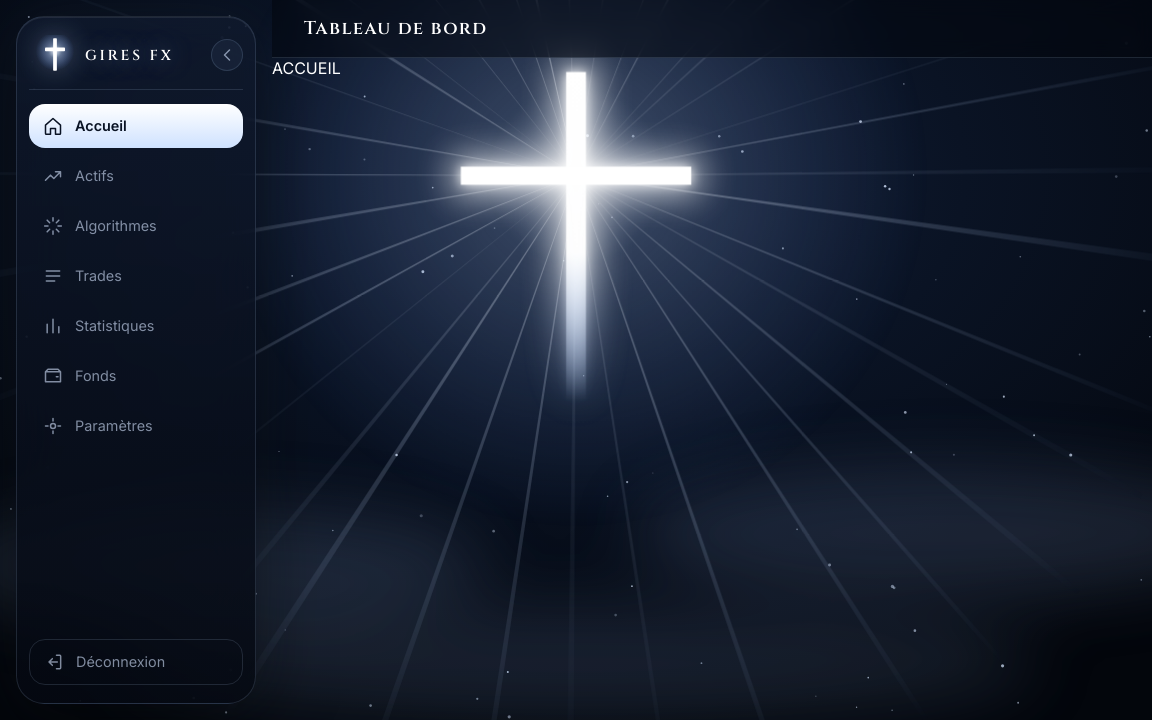
Test case: Layout : menu › navigue au clic
The image size is (1152, 720).
Click the link "Statistiques" at (99, 326), box [43, 316, 154, 336]
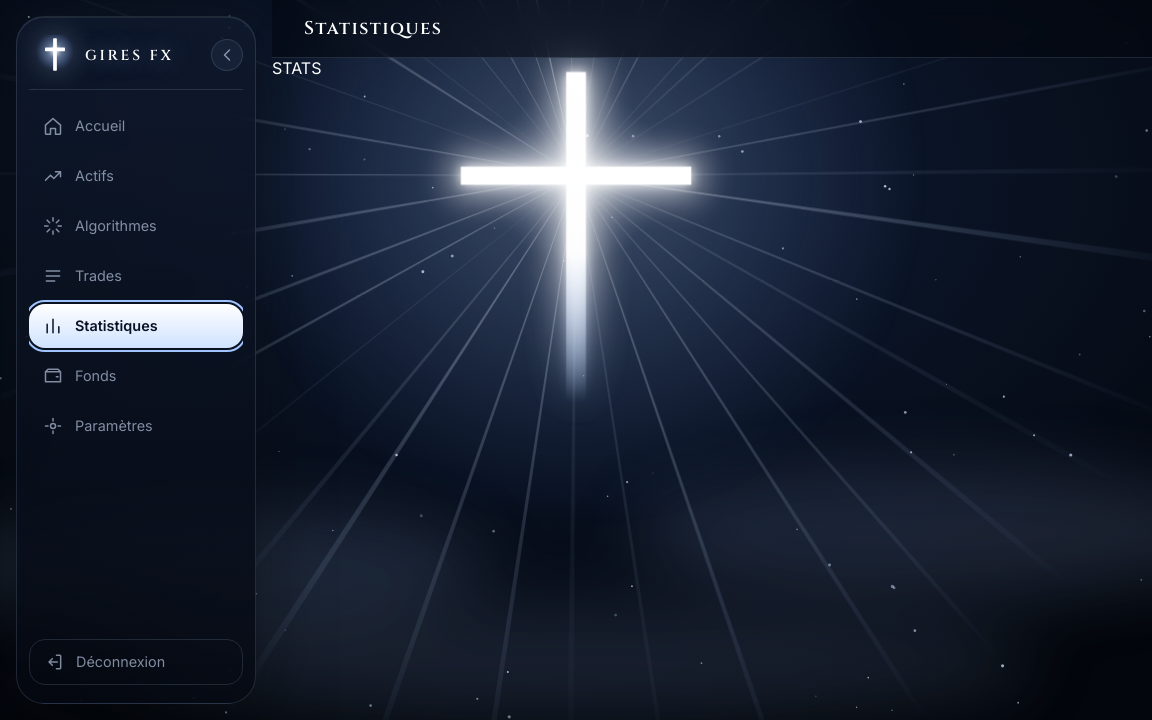
Check: the text "STATS" is shown, box [272, 58, 321, 78]
